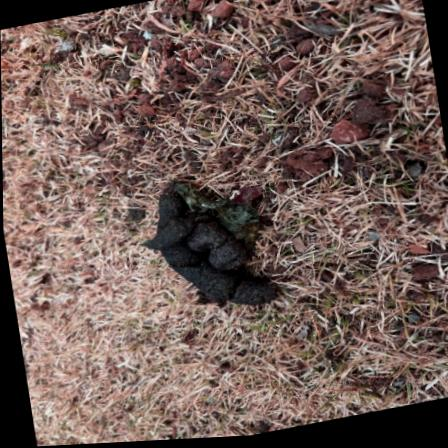dog-poop: (140, 164, 280, 330)
